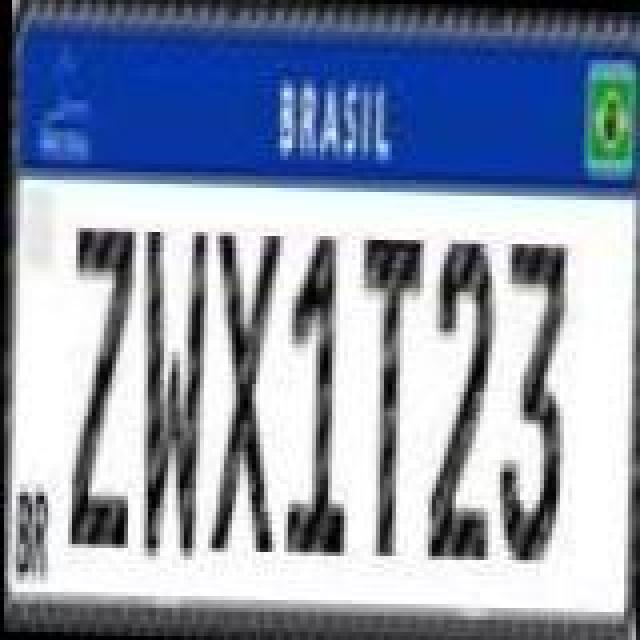1: (276, 228, 356, 556)
2: (420, 226, 500, 566)
3: (488, 236, 568, 564)
T: (352, 232, 424, 556)
W: (126, 220, 210, 568)
X: (204, 226, 284, 554)
Z: (62, 220, 138, 548)
